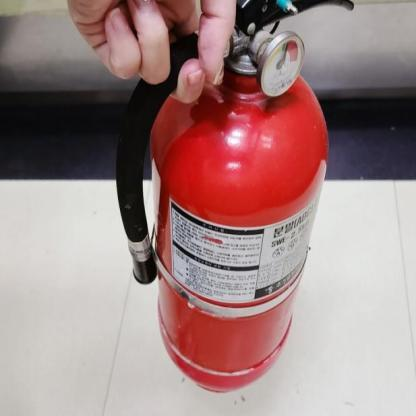Fire Extinguisher: (111, 11, 367, 402)
